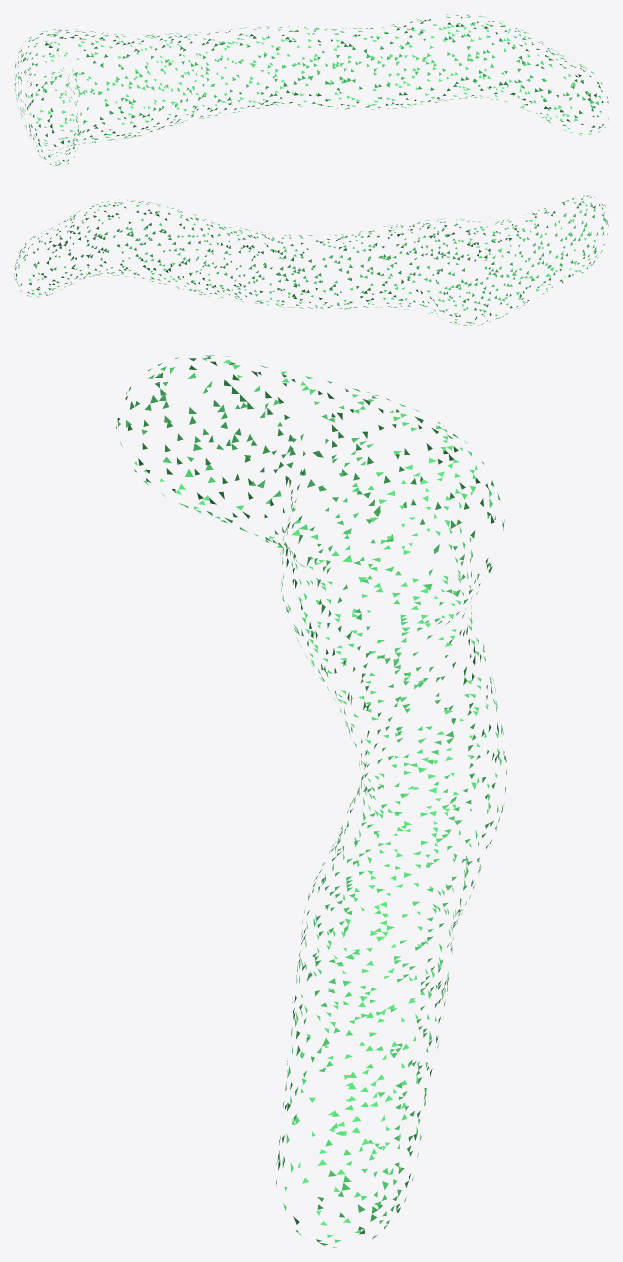
Rendered from morph_020.glb.
3 renders of one model, top to bottom at view 1: azimuth 30°, elevation 25°; view 2: azimuth 150°, elevation 25°; view 3: azimuth 270°, elevation 25°, orthographic. The views are drawn at different scales.
Bounding box in the file's own units: 110 × 38.09 × 34.29.
